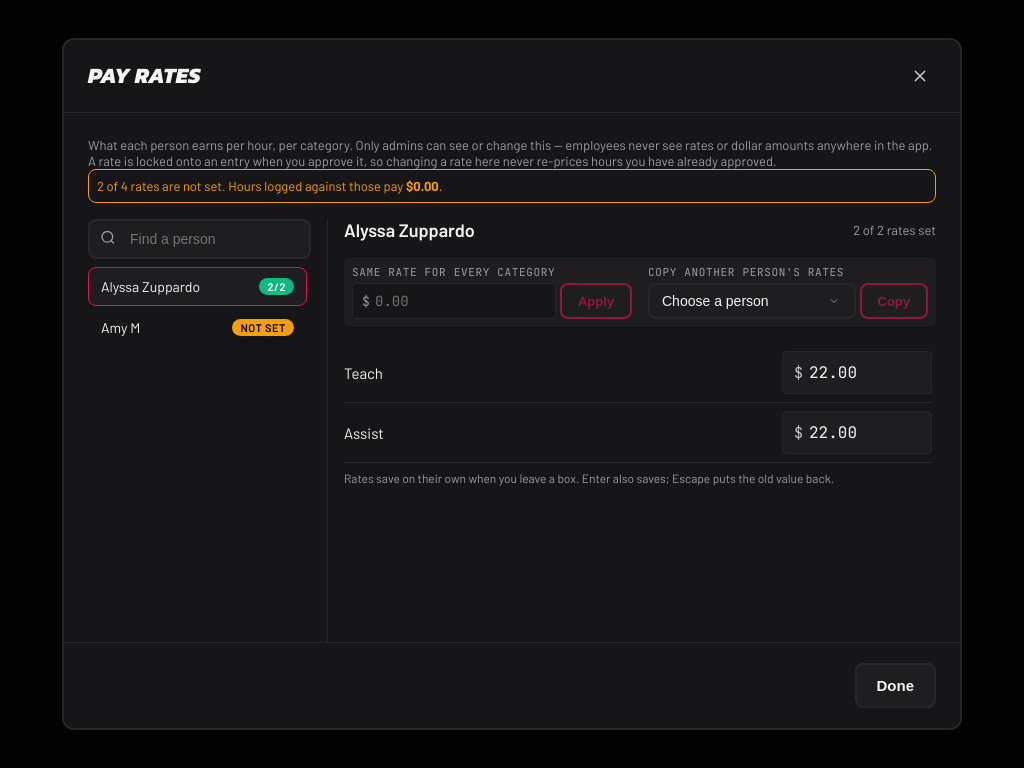
desktop › switches person when clicked and shows their unset boxes blank
Click the option "Amy M Not set": point(198, 328) [88,308,307,347]
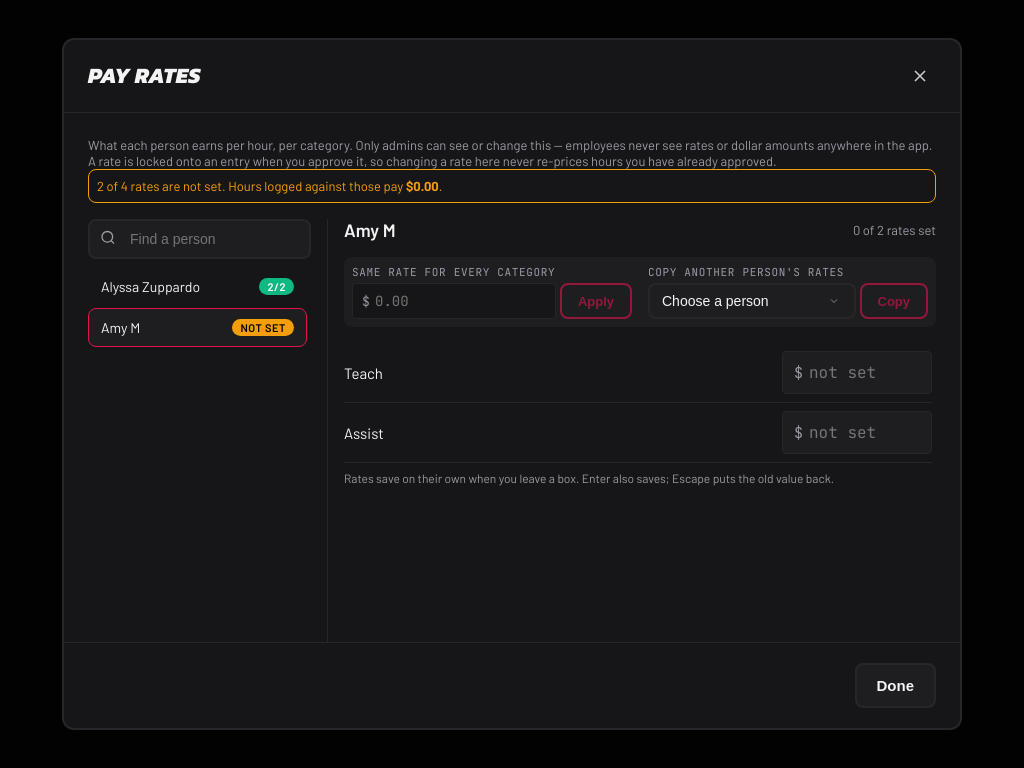
Expected: the text "0 of 2 rates set" is shown, [853,222,936,238]
Expected: the number field labelled "Teach" is not empty, [782,351,932,394]
